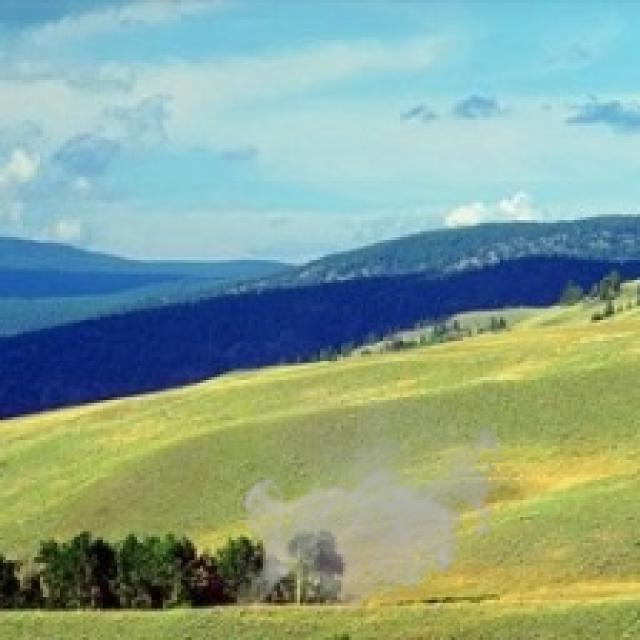Smoke: (237, 400, 512, 623)
